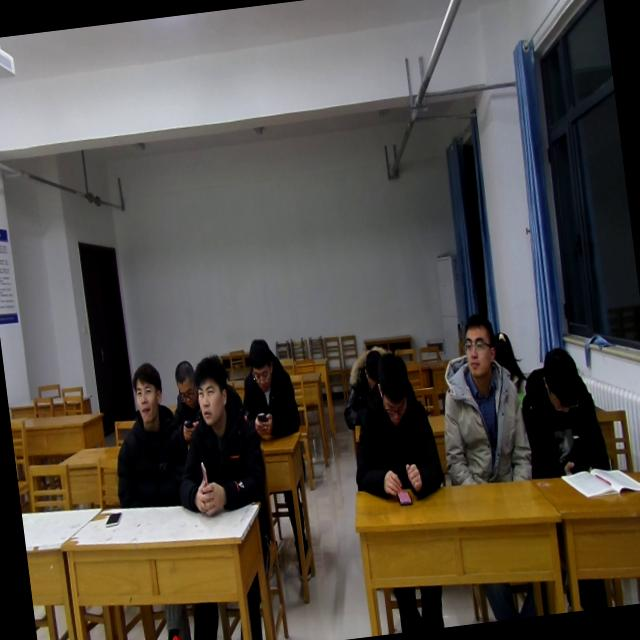bow: (235, 332, 303, 442), (334, 339, 398, 431), (167, 357, 207, 444)
down: (366, 344, 416, 434), (534, 342, 588, 420), (243, 330, 279, 396), (168, 351, 200, 411), (358, 343, 382, 388)
lookup: (187, 342, 234, 431), (453, 308, 501, 383), (126, 357, 166, 429)
sit: (426, 306, 538, 494), (162, 349, 270, 519), (342, 348, 446, 506), (101, 355, 193, 513), (514, 341, 610, 480)
